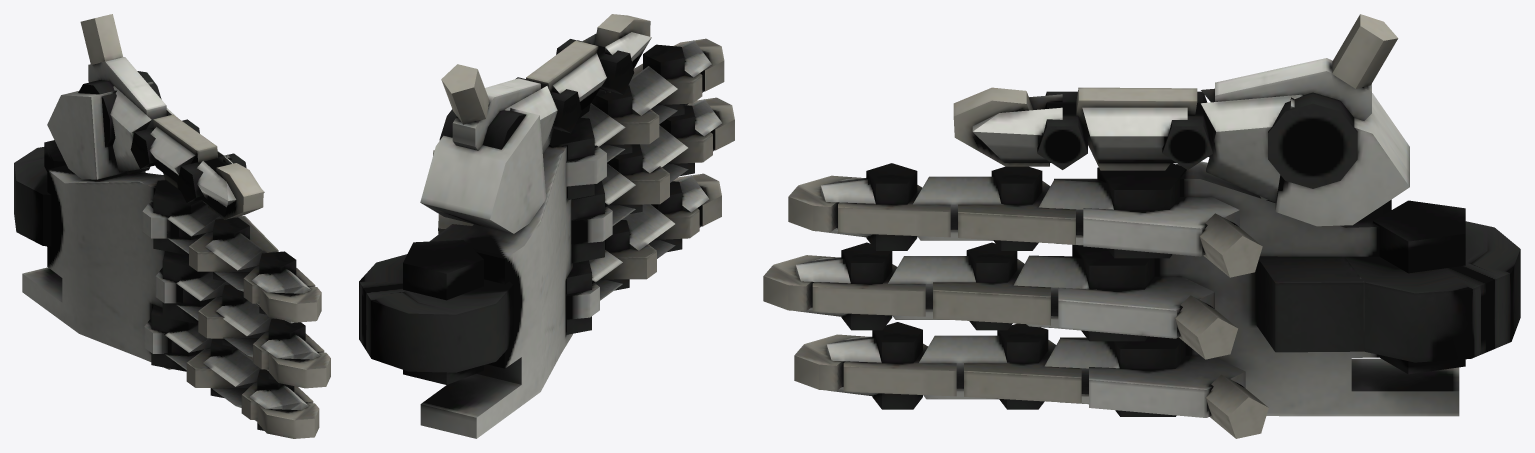
The model's file is Atlas_Hand_Left.fbx.
3 views of the same model, side by side, from view 1: azimuth 30°, elevation 25°; view 2: azimuth 150°, elevation 25°; view 3: azimuth 270°, elevation 25° (orthographic). The views are drawn at different scales.
Parts seen in each view (by area): view 1: Atlas_Hand_Left; view 2: Atlas_Hand_Left; view 3: Atlas_Hand_Left.
Part boxes in pixels (box(x1,y1,x2,y2)): Atlas_Hand_Left: box(14, 14, 330, 438); Atlas_Hand_Left: box(359, 14, 734, 438); Atlas_Hand_Left: box(763, 14, 1520, 438).
Size of the model in its own units: 4.91 by 9.71 by 16.93.
